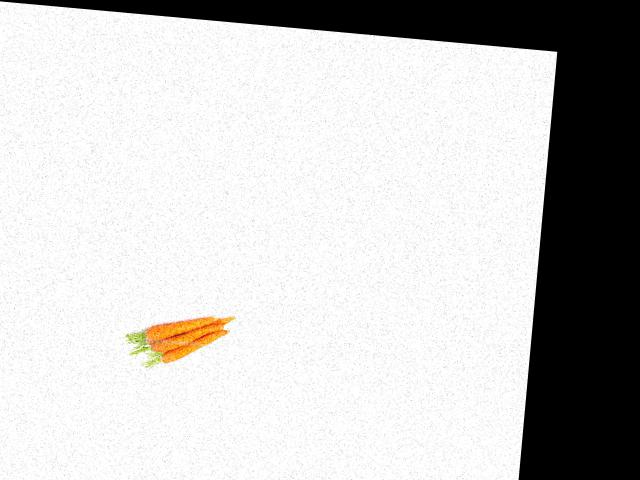carrot: (139, 304, 224, 352)
